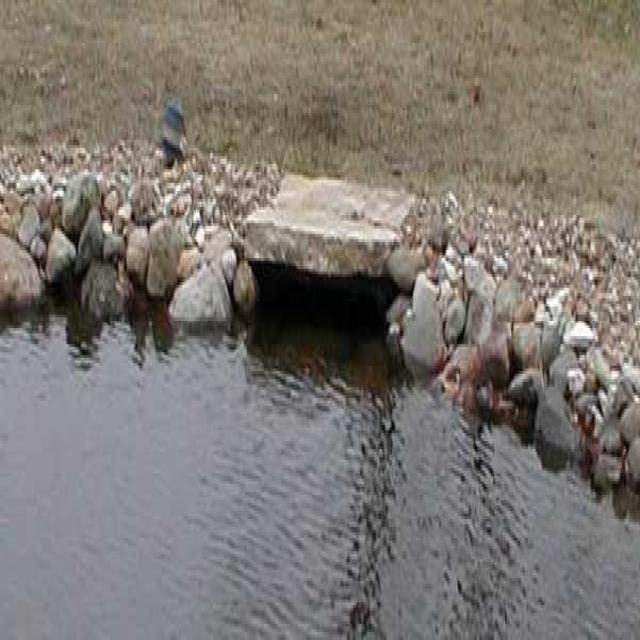Ponds: (1, 181, 640, 637)
